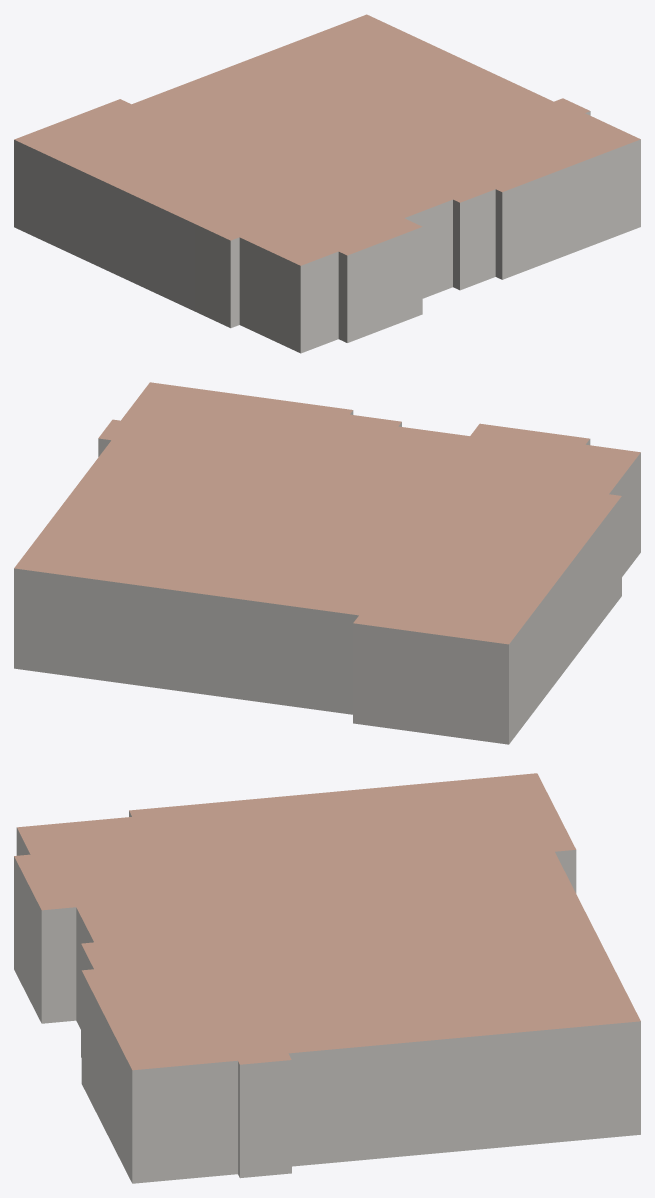
The model's file is gridID_43.dae.
3 views of the same model, one above another, from view 1: azimuth 30°, elevation 25°; view 2: azimuth 150°, elevation 25°; view 3: azimuth 270°, elevation 25° (orthographic). The views are drawn at different scales.
Parts seen in each view (by area): view 1: model_gridID_43_w389541424_001, model_gridID_43_w389541424; view 2: model_gridID_43_w389541424, model_gridID_43_w389541424_001; view 3: model_gridID_43_w389541424, model_gridID_43_w389541424_001.
Part boxes in pixels (left/top/right/bottom): model_gridID_43_w389541424_001: left=195, top=88, right=640, bottom=353; model_gridID_43_w389541424: left=14, top=14, right=524, bottom=311; model_gridID_43_w389541424: left=14, top=460, right=603, bottom=744; model_gridID_43_w389541424_001: left=96, top=382, right=640, bottom=619; model_gridID_43_w389541424: left=196, top=773, right=640, bottom=1161; model_gridID_43_w389541424_001: left=14, top=804, right=343, bottom=1183.
Size of the model in its own units: 42.13 by 37.57 by 7.5.
